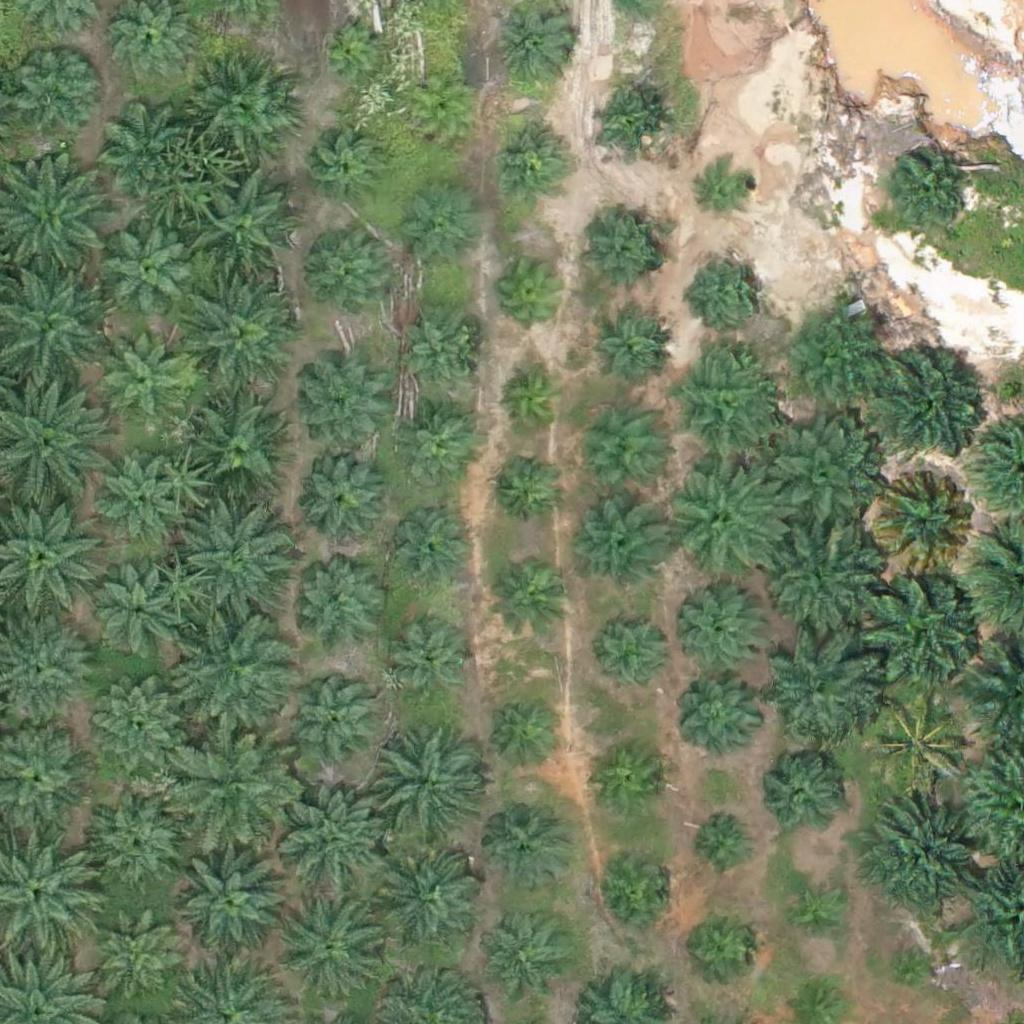Kelapa_Sawit: (662, 451, 787, 577), (366, 724, 491, 850), (270, 772, 395, 898), (865, 336, 990, 462), (859, 570, 984, 696), (762, 517, 887, 643), (759, 623, 884, 749), (864, 790, 989, 916), (754, 416, 879, 541), (860, 684, 973, 798), (187, 283, 300, 396), (172, 617, 285, 730), (176, 737, 289, 850), (867, 465, 980, 578), (179, 502, 291, 616), (779, 299, 891, 413), (173, 844, 285, 957), (669, 351, 781, 464), (676, 576, 776, 677), (196, 182, 296, 283), (187, 394, 287, 495), (371, 847, 471, 947), (280, 895, 380, 995), (90, 900, 190, 1000), (568, 407, 668, 507), (190, 59, 290, 159), (83, 673, 183, 773), (582, 212, 670, 300), (480, 909, 568, 997), (674, 670, 762, 758), (394, 405, 482, 493), (391, 622, 479, 710), (300, 362, 388, 450), (297, 451, 385, 539), (294, 679, 382, 767), (93, 792, 181, 880), (97, 574, 185, 662), (107, 229, 195, 317), (13, 45, 101, 133), (306, 231, 393, 320), (586, 309, 673, 397), (884, 151, 971, 239), (577, 497, 664, 585), (393, 313, 480, 401), (385, 507, 472, 595), (291, 562, 378, 650), (480, 802, 567, 890), (94, 450, 181, 538), (99, 335, 186, 423), (98, 102, 185, 190), (754, 750, 841, 838), (590, 87, 665, 163), (493, 562, 568, 638), (488, 451, 563, 527), (494, 363, 569, 439), (692, 250, 767, 326), (593, 854, 668, 930), (499, 3, 574, 79), (307, 130, 382, 205), (404, 194, 479, 269), (491, 121, 566, 196), (497, 254, 572, 329), (490, 698, 565, 773), (590, 738, 665, 813), (599, 618, 674, 693), (681, 912, 756, 987), (784, 885, 847, 948), (408, 78, 471, 141), (697, 159, 759, 222), (691, 808, 753, 871), (317, 18, 379, 80), (883, 941, 933, 991)
